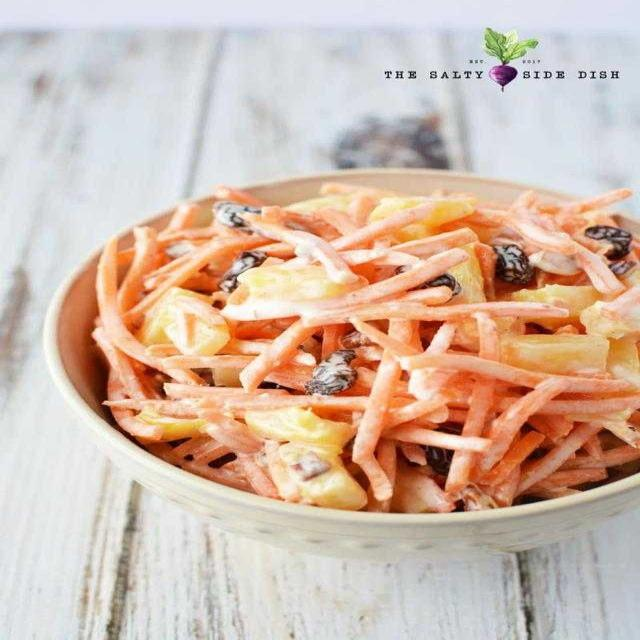carrots: (114, 238, 192, 301)
